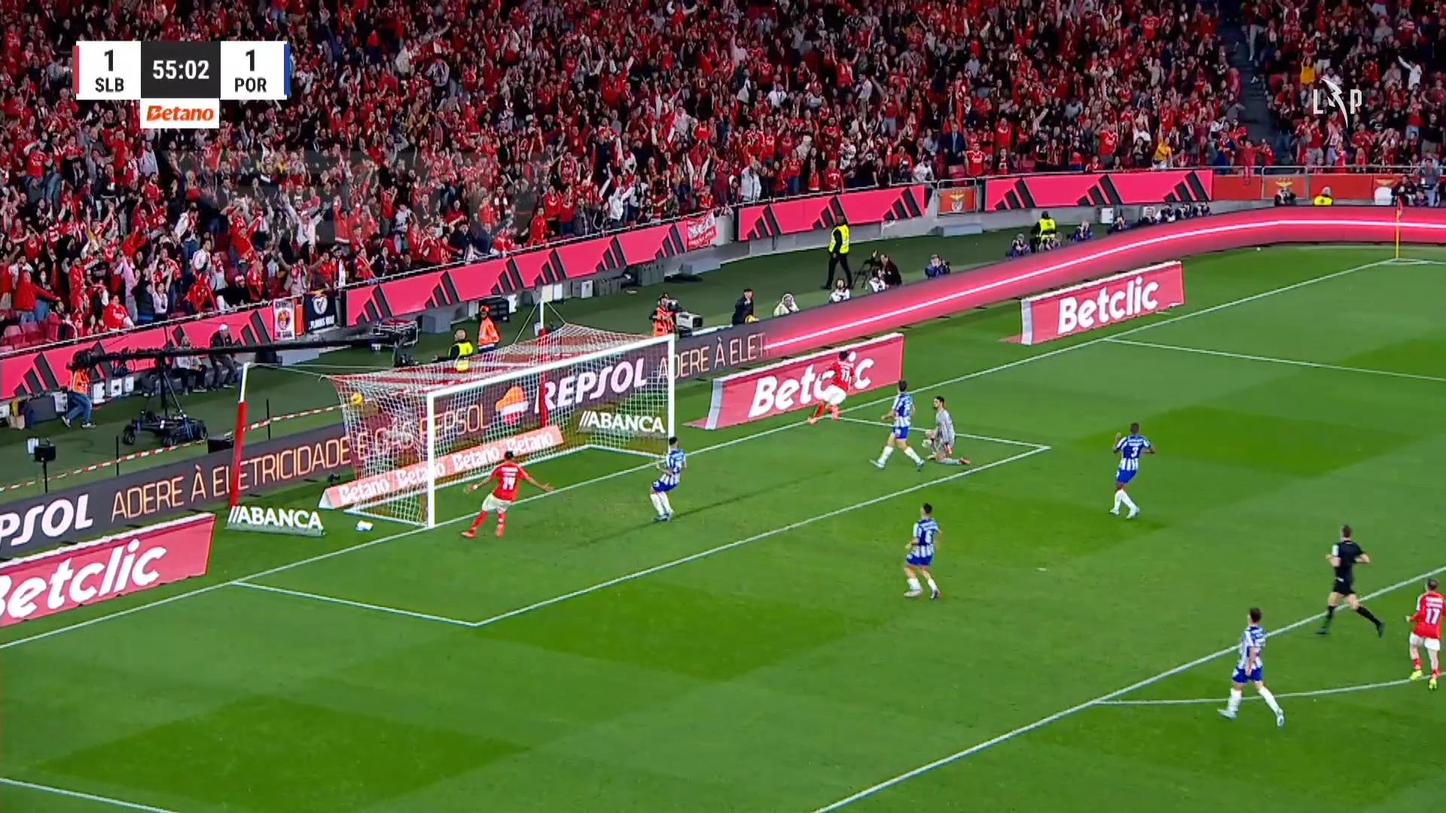ball: (351, 392, 363, 405)
goalkeeper: (921, 394, 970, 465)
player: (459, 449, 554, 538), (1216, 607, 1285, 727), (868, 379, 925, 471), (1108, 421, 1155, 519), (1405, 577, 1444, 690), (807, 349, 862, 425), (901, 502, 941, 600), (648, 435, 687, 522), (59, 354, 97, 429)
referee: (1314, 523, 1384, 638)
